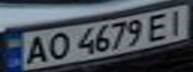4: (75, 25, 96, 56)
6: (93, 21, 115, 53)
7: (109, 19, 130, 51)
9: (124, 16, 151, 47)
A: (18, 33, 51, 65)
E: (142, 10, 175, 42)
I: (163, 7, 190, 36)
O: (42, 29, 72, 61)
